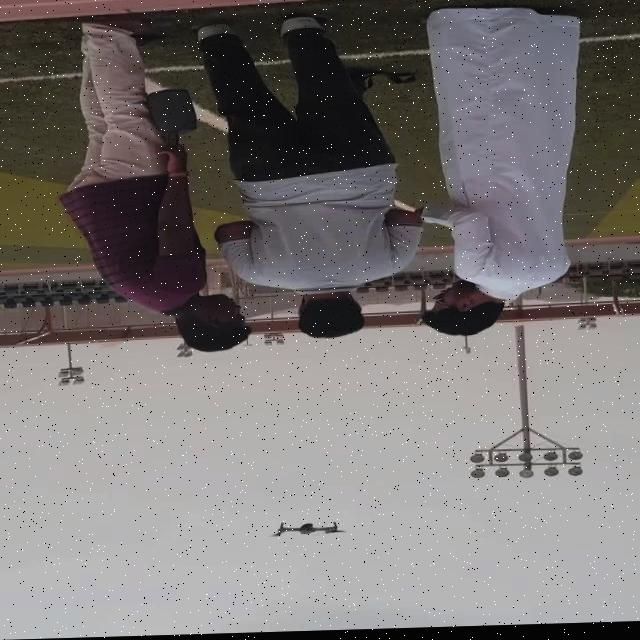drone: (270, 524, 350, 541)
